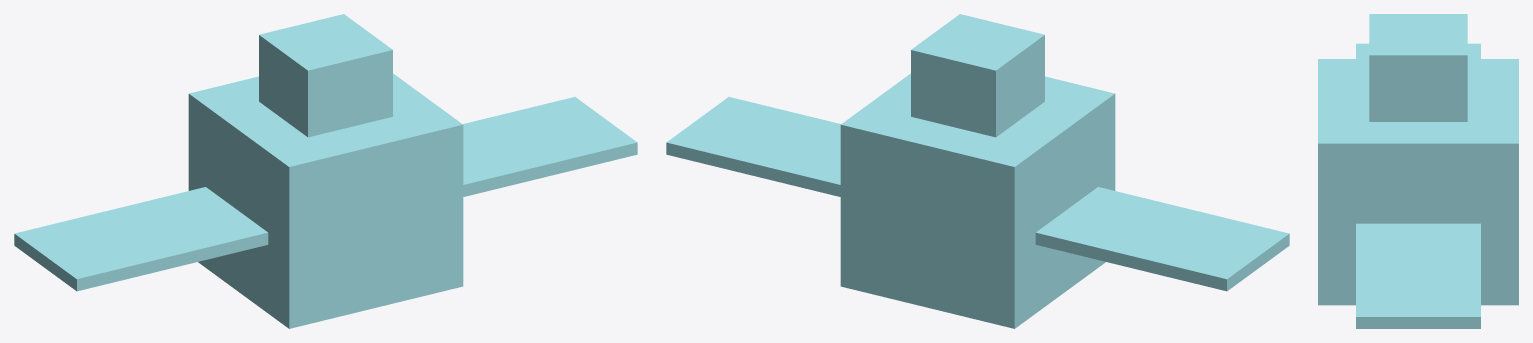
The model's file is uranus.glb.
3 renders of one model, left to right at view 1: azimuth 30°, elevation 25°; view 2: azimuth 150°, elevation 25°; view 3: azimuth 270°, elevation 25°, orthographic.
Parts seen in each view (by area): view 1: uranus-node; view 2: uranus-node; view 3: uranus-node.
Boxes of the visible parts, x1,y1,x2,y2 form: uranus-node: (14,14,637,328); uranus-node: (666,14,1289,328); uranus-node: (1318,14,1518,328).
Size of the model in its own units: 2.9 by 1.13 by 0.9.
